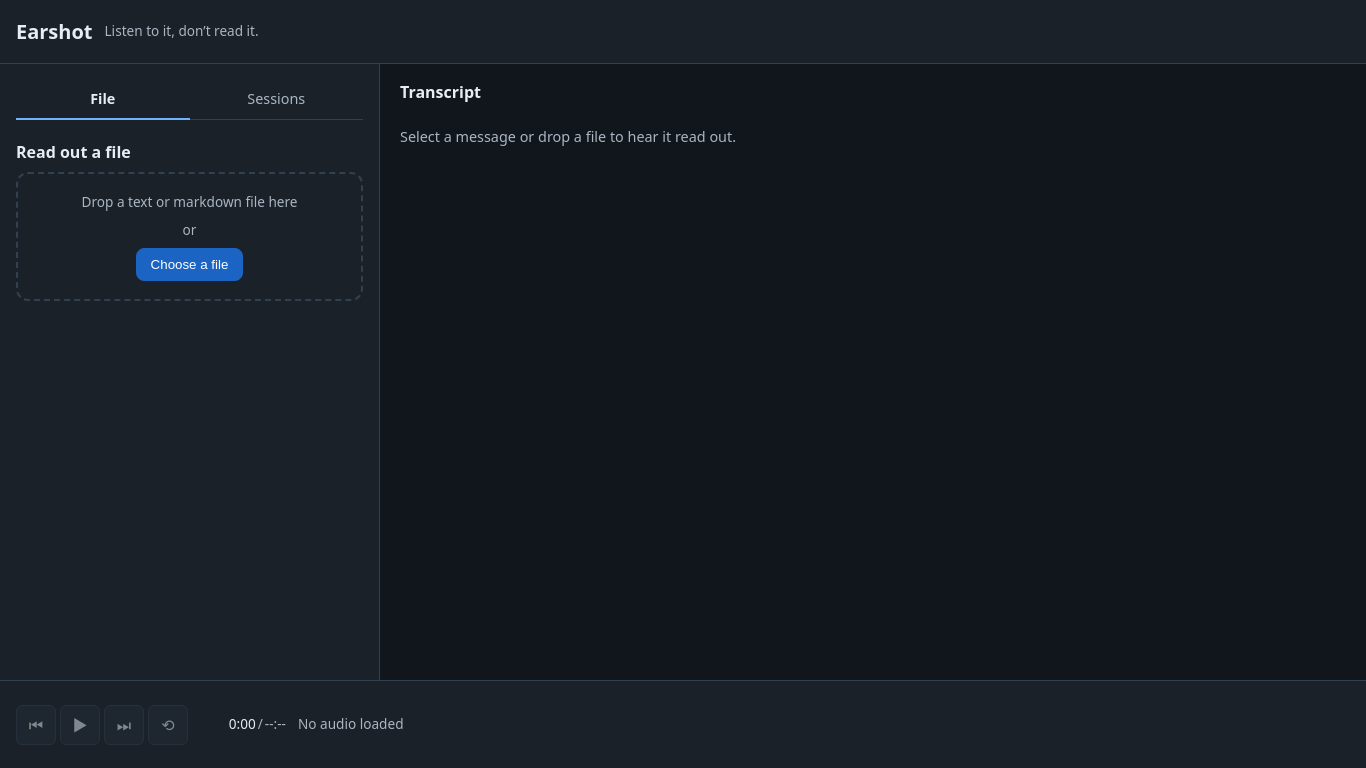
Test: App shell — list-detail layout › aside shows File tab by default, Sessions tab switches pane
Expected: the button "Choose a file" is shown, [136,248,243,281]
# Switch to Sessions.
Click the tab "Sessions": x=276, y=100 [190,80,363,120]
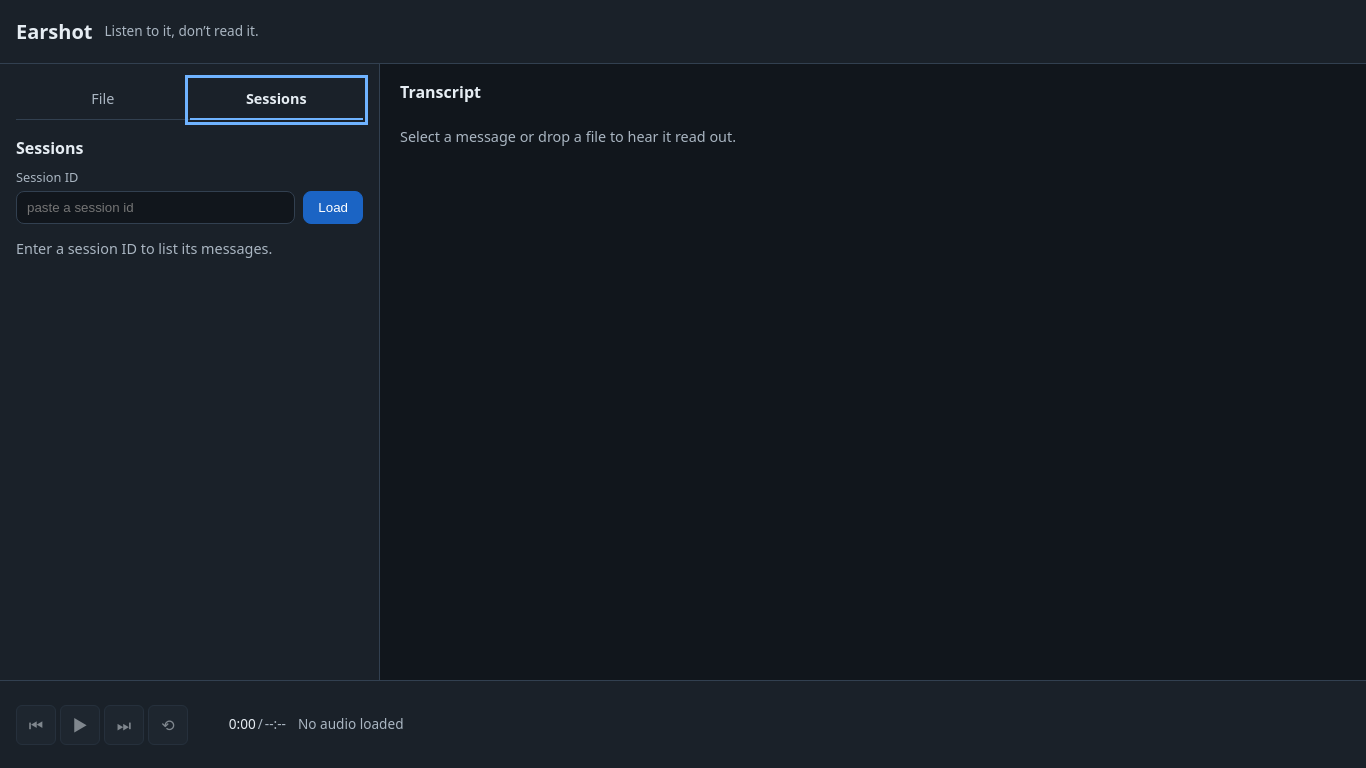
Expected: the text "Enter a session ID to list its messages." is shown, [16,239,272,258]
